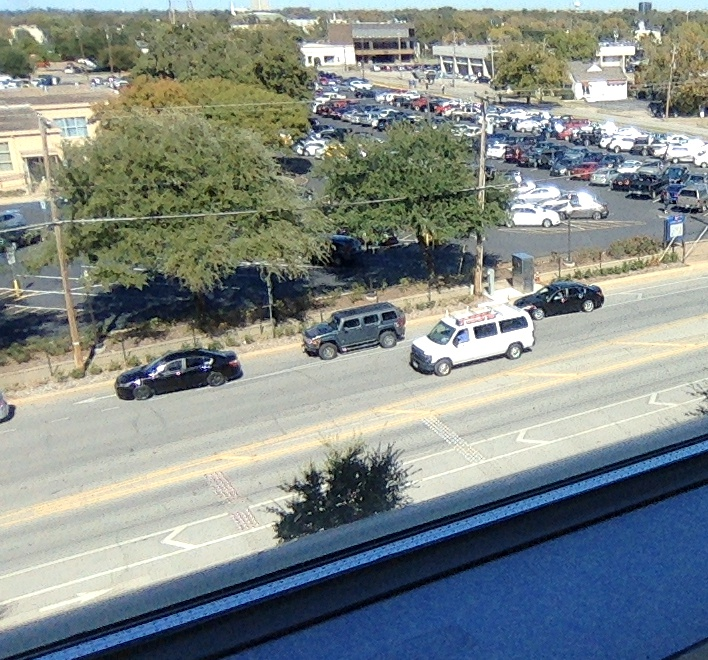car: (300, 300, 408, 360)
